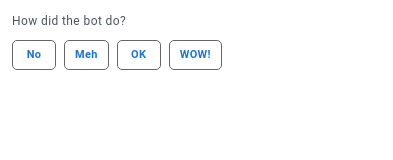
Scenario: MessageFeedback Component › shows check icon when button is selected
Click the radio button labelled "WOW!".
click(195, 55)  # box left=169, top=40, right=222, bottom=70
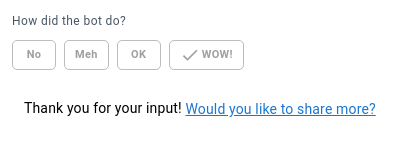
Expected: the radio button "WOW!" is shown, left=169, top=40, right=244, bottom=70
Expected: the icon is shown, left=180, top=45, right=200, bottom=65
